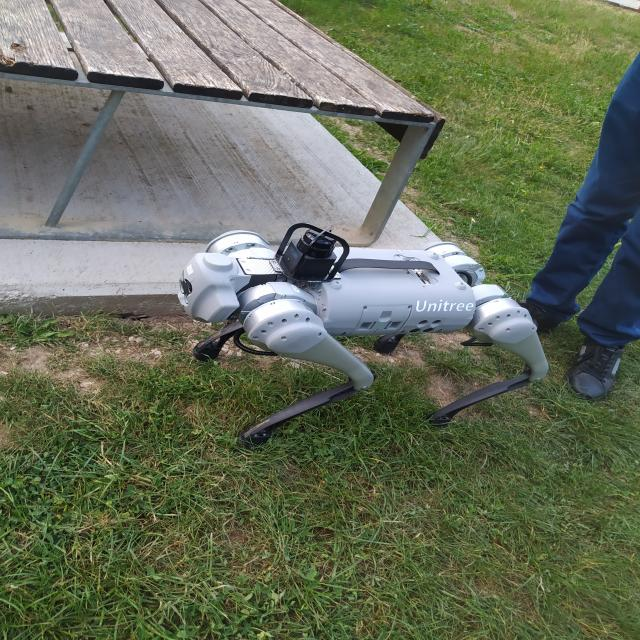unitree-go1-robot: (163, 218, 553, 450)
